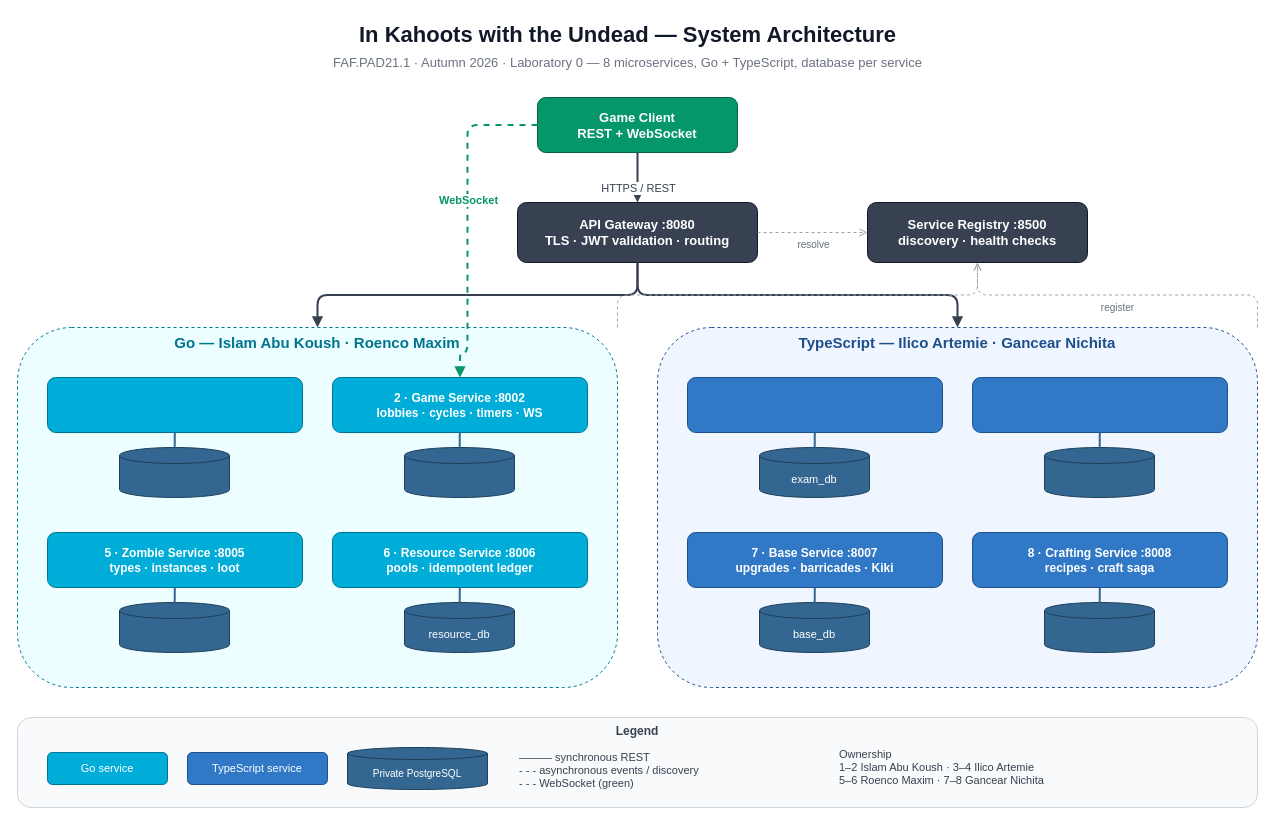
This 1283x825 diagram has some shape labels left out. The centre of each missing label's shape, as x and y in pixels:
1 · Player Service :8001 identity · auth · XP · inventory: pixel 174 404
3 · Exam Service :8003 exams · grades · achievements: pixel 814 404
4 · World Service :8004 map · rooms · nodes · wings: pixel 1100 404
crafting_db: pixel 1099 627
game_db: pixel 459 472
player_db: pixel 174 472
world_db: pixel 1099 472
zombie_db: pixel 174 627
